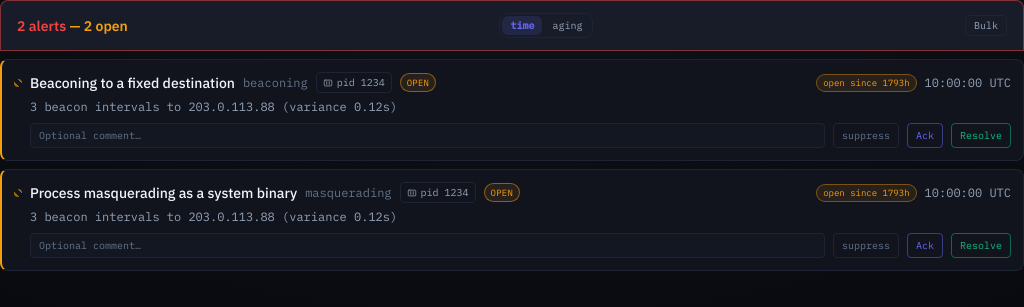
it: alert triage lifecycle — run-detail panel › acks with a comment, resolves, reopens — pill, buttons, header, and PATCH payloads at every step
The width and height of the screenshot is (1024, 307).
Expected: the text "Open" in the row of "Beaconing to a fixed destination" is shown, [407,77,429,88]
Expected: the 1st button "Ack" is shown, [907,123,943,148]
// ── ack with a comment ────────────────────────────────────────────────
In the field with placeholder "Optional comment…" below "Beaconing to a fixed destination": (428, 136) [30,123,825,148], type "seen, will resolve"
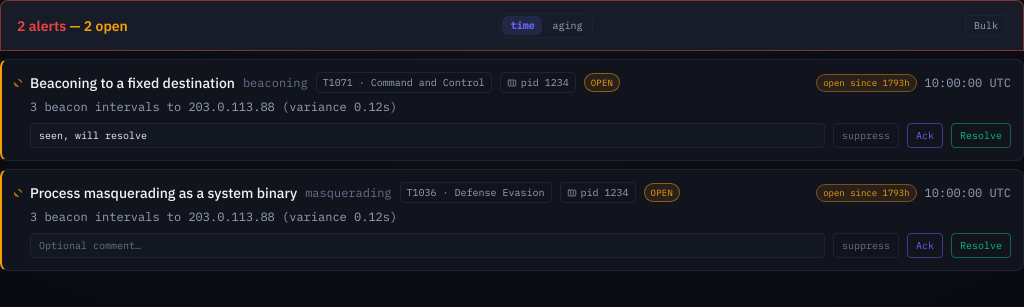
Click the 1st button "Ack": (925, 136) [907,123,943,148]
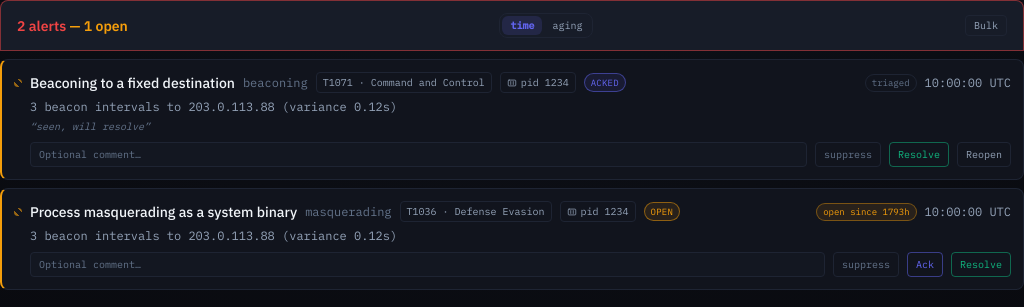
Now the text "Acked" is shown, box [584,73,626,92]
Now the text "“seen, will resolve”" is shown, box [30,120,150,133]
Now the button "Reopen" is shown, box [957,142,1011,167]
// ── resolve the acked alert (draft was consumed — empty comment) ──────
Click the button "Resolve" below "triaged": (919, 154) [889,142,949,167]
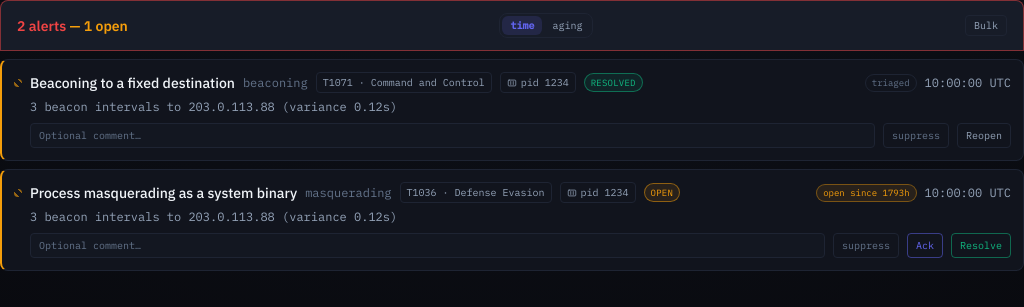
Now the button "Reopen" is shown, box [957,123,1011,148]
Now the text "Resolved" is shown, box [584,73,643,92]
// ── resolve-direct shortcut on the second alert (skip ack) ────────────
Click the button "Resolve": (981, 246) [951,233,1011,258]
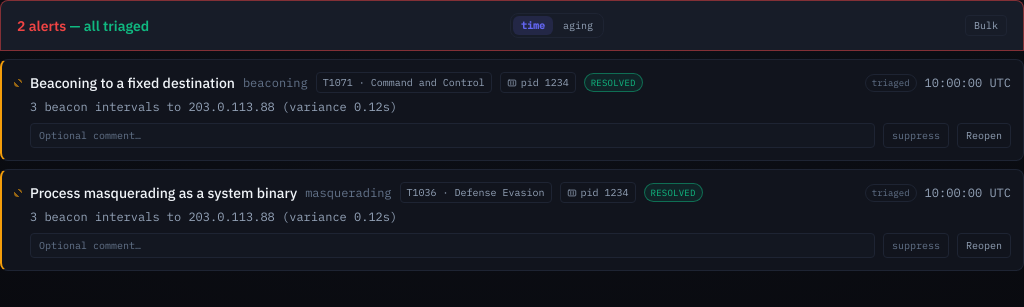
Now the text "Resolved" in the row of "Defense Evasion" is shown, box [651,187,696,198]
Now the button "Ack" is gone
// ── reopen one — the full cycle closes ────────────────────────────────
Click the 2nd button "Reopen": (984, 246) [957,233,1011,258]
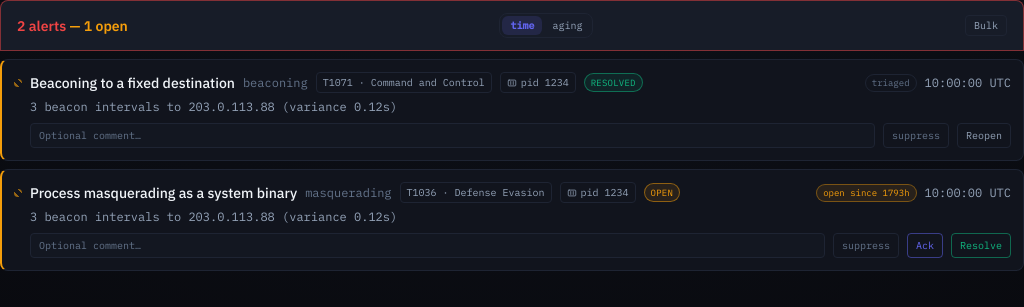
Expected: the button "Resolve" is shown, [951,233,1011,258]
Now the text "Open" is shown, box [644,183,680,202]
Now the button "Ack" is shown, box [907,233,943,258]
